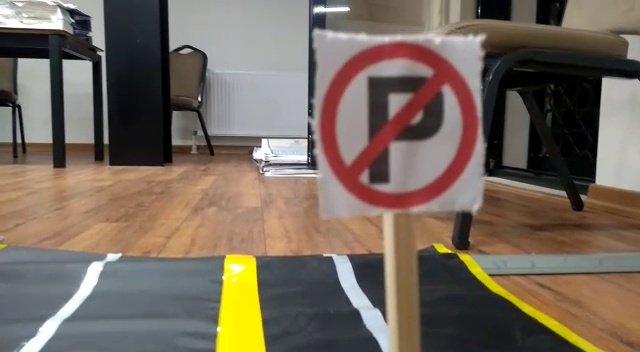park_yapilmaz: (316, 33, 481, 209)
